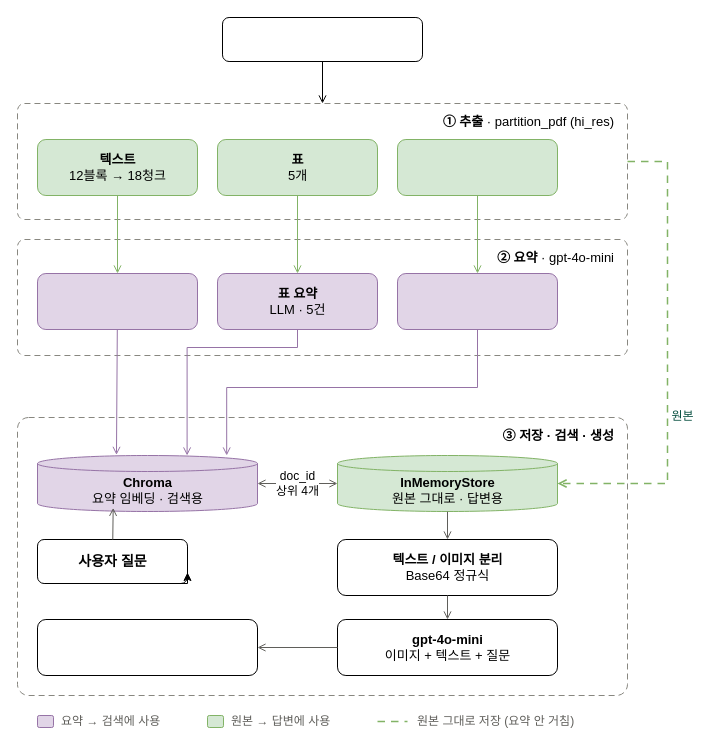
This 711x749 diagram has some shape labels left out. Here are the shapes that lost their labels. From the top down, the centre of each, then its label:
At [322,39]: "PDF 원본 (21쪽)".
At [477,167]: "이미지 그림 41 + 표 이미지 5장".
At [117,301]: "텍스트 요약 LLM · 18건".
At [477,301]: "이미지 요약 VLM · 46건".
At [147,647]: "한국어 답변 예: 누적 평가이익 571조 원".
